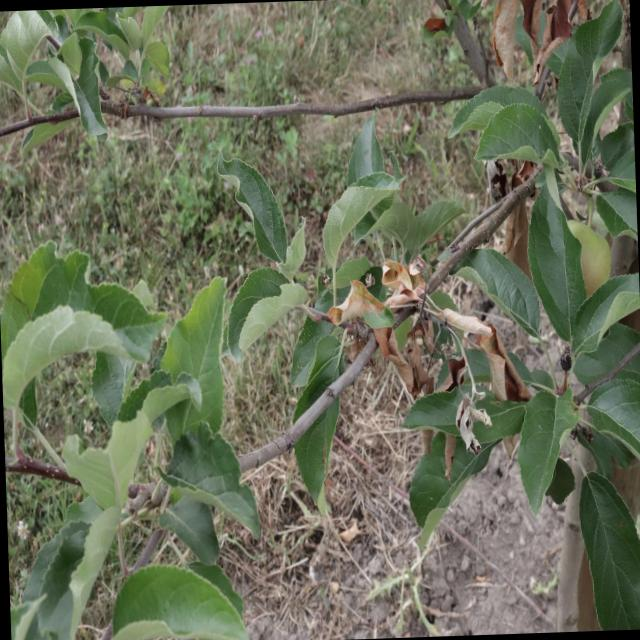-FireBlight-: (338, 276, 530, 413)
